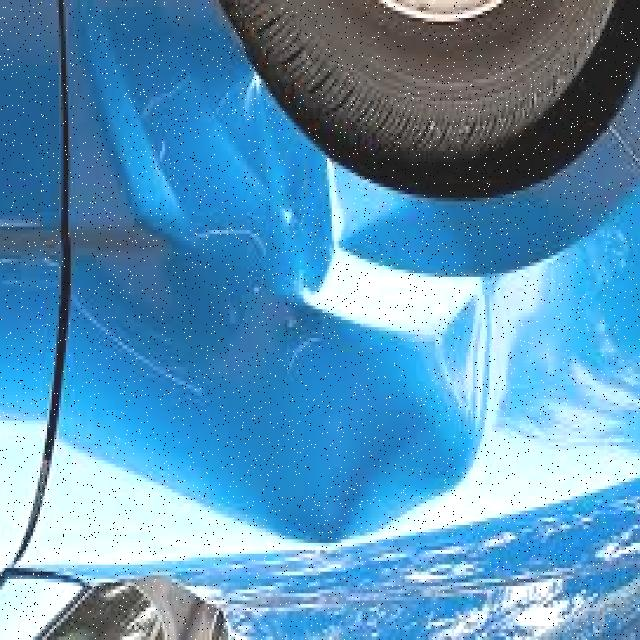Dent: (72, 210, 514, 568), (101, 58, 338, 311)
